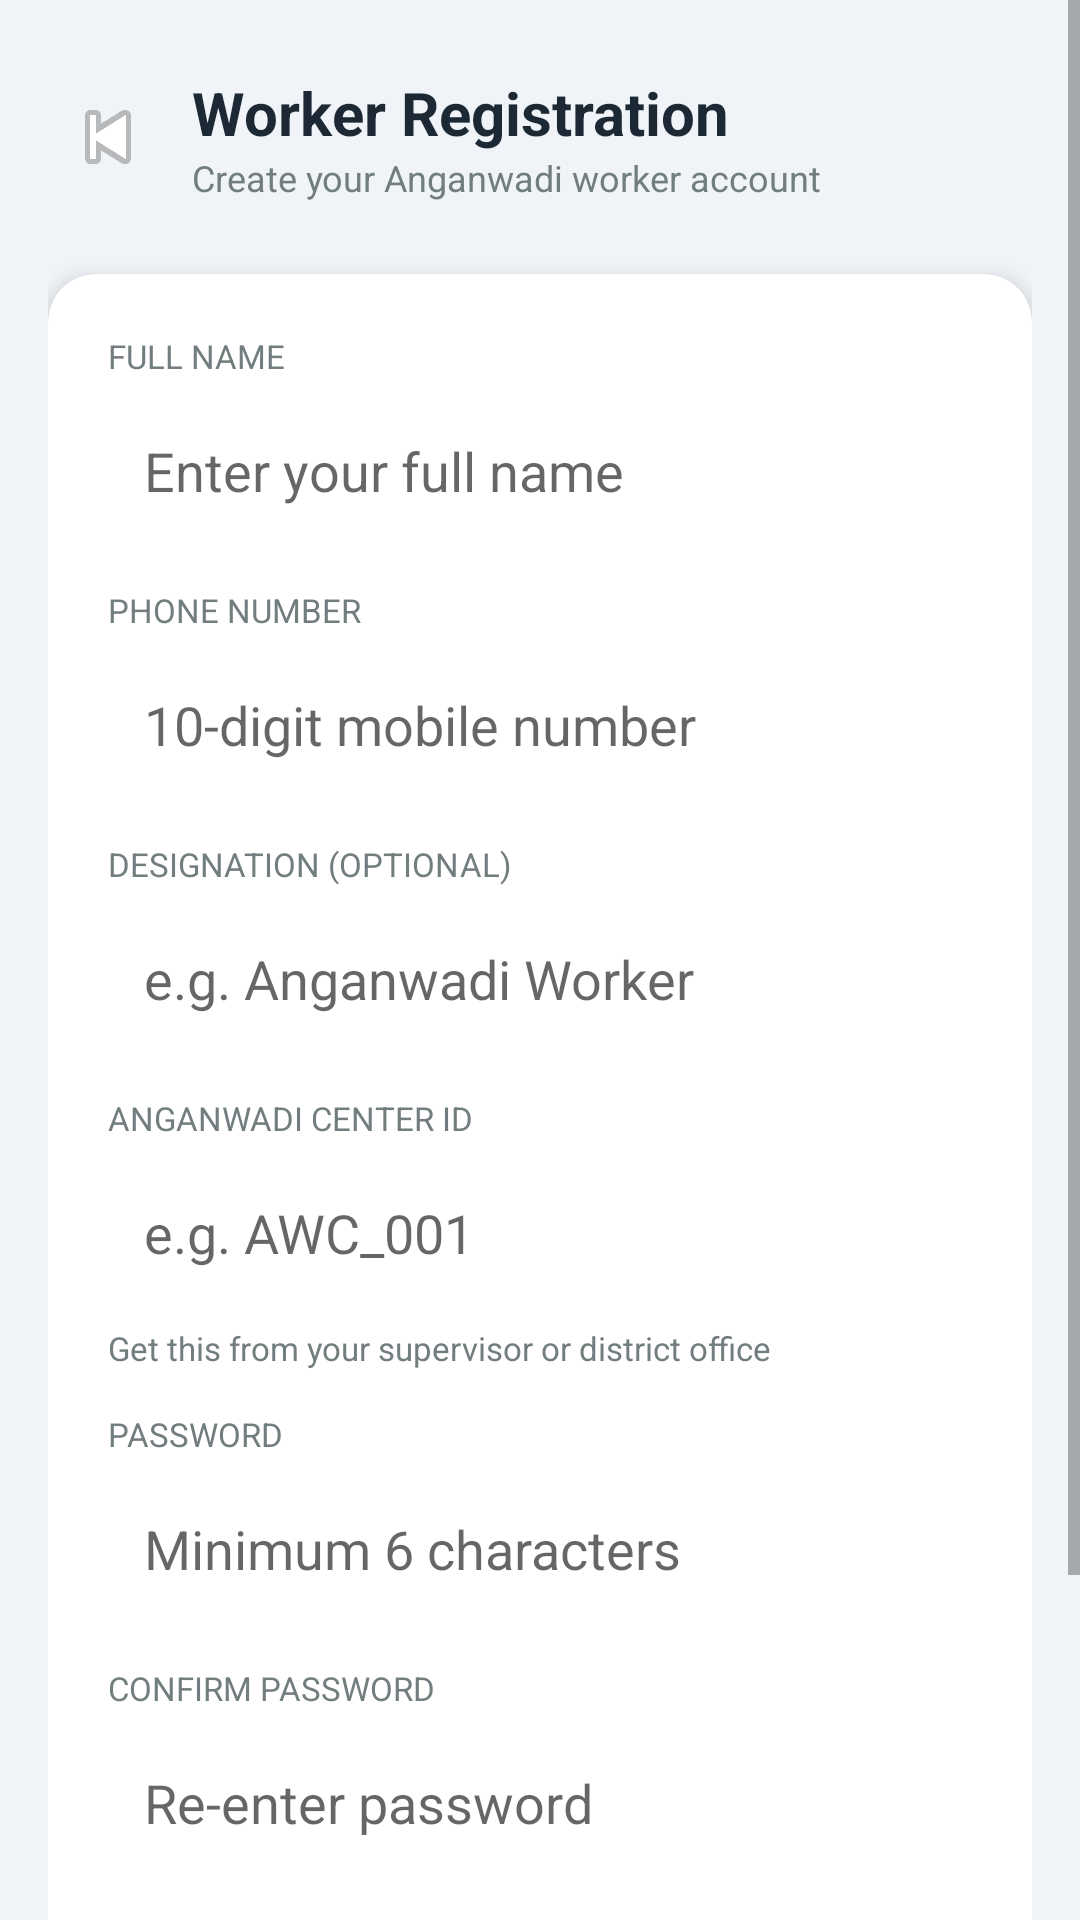

Point at icon controls on the screen. Image size 1080w x 1920h, points as point (x, y).
previous: point (108, 137)
